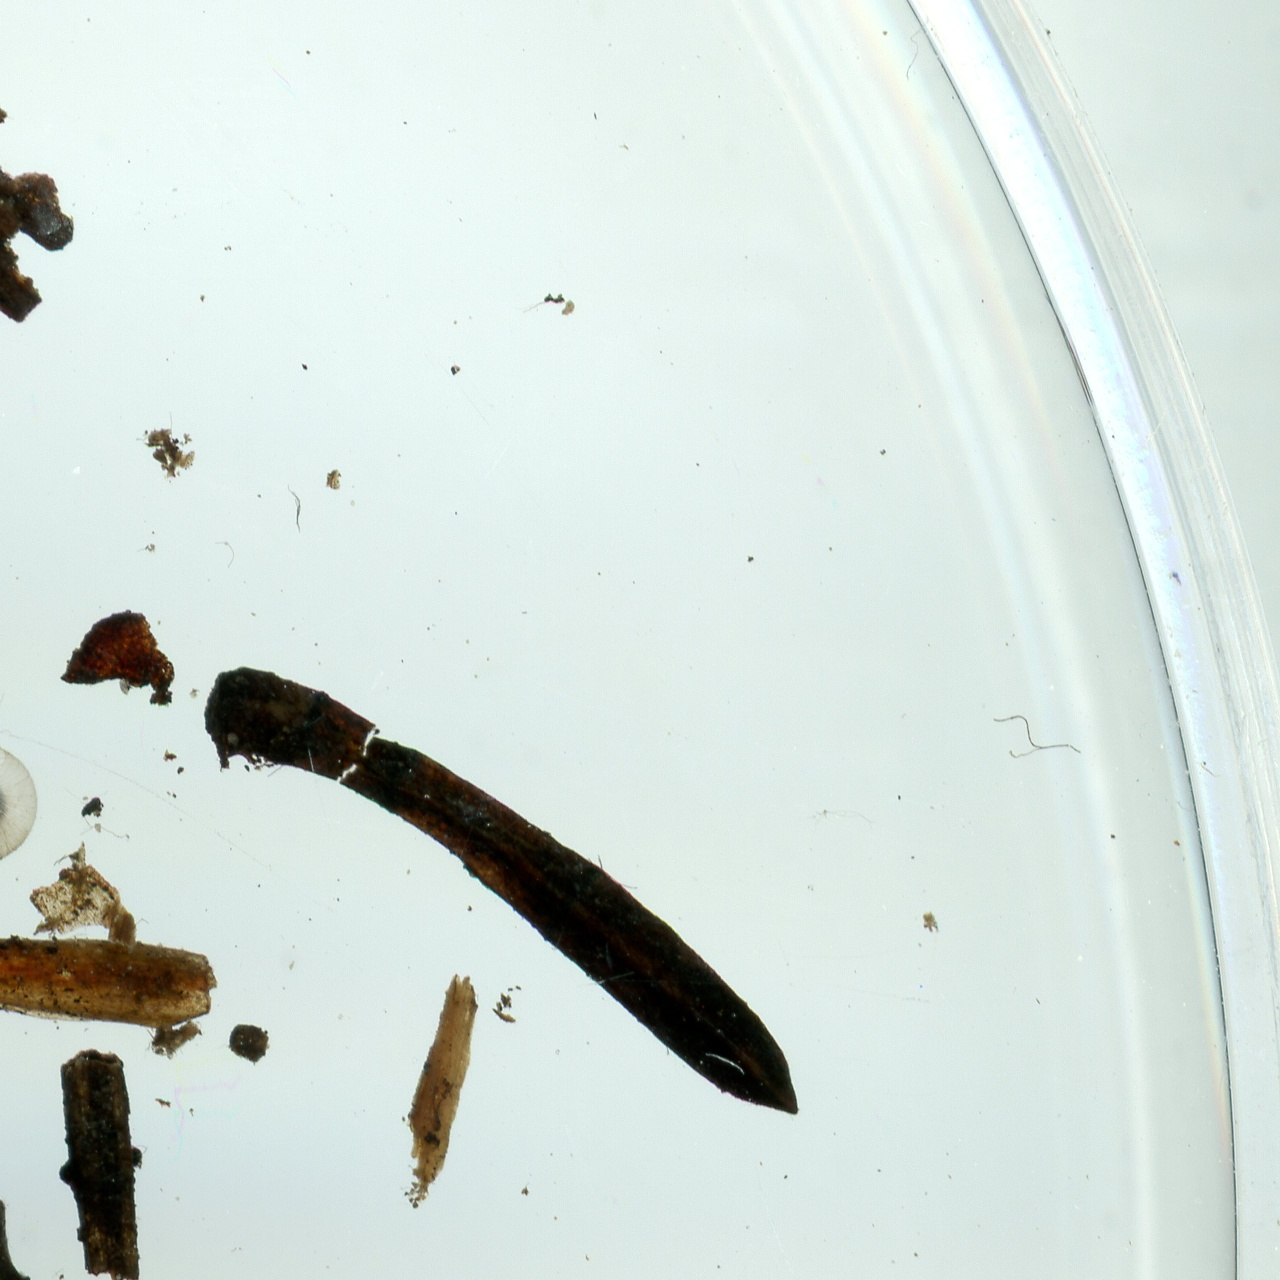arthropod: (0, 740, 43, 867)
